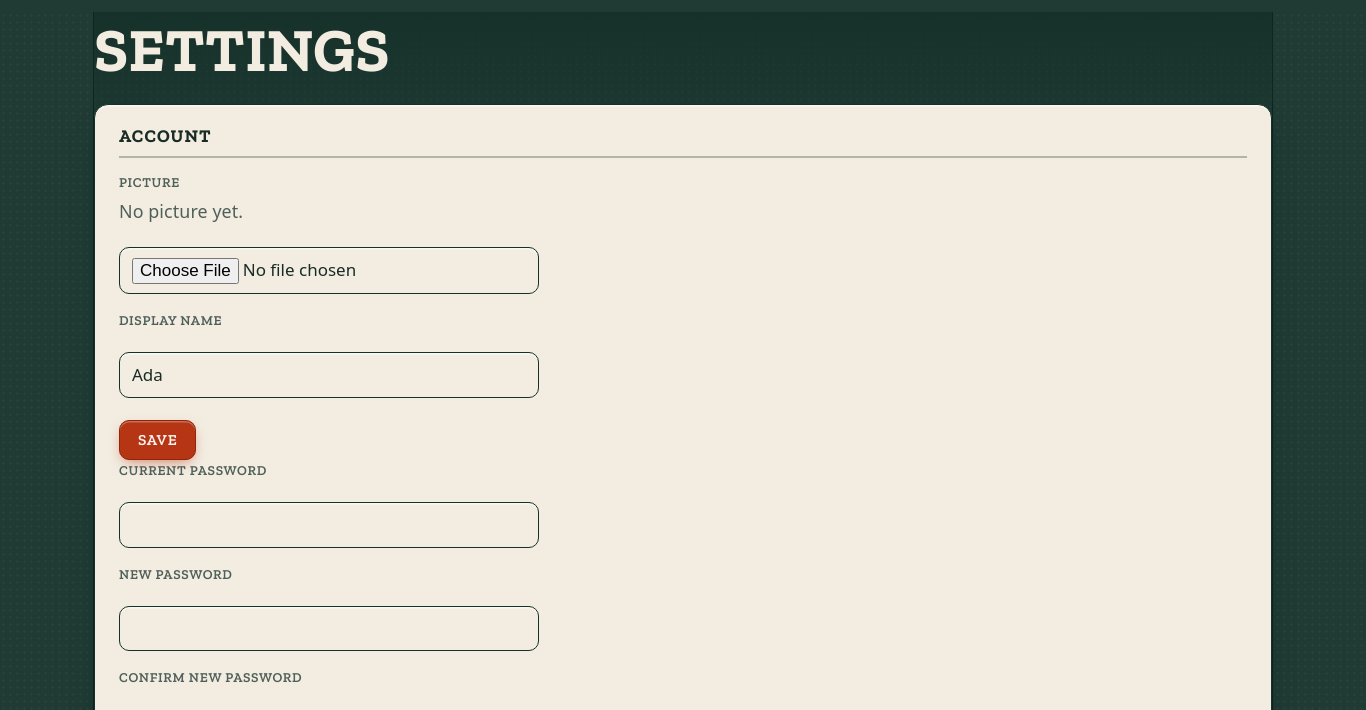
Test: saves the trimmed display name
Expected: the heading "Settings" is shown, top-left (94, 13), bottom-right (390, 87)
Replace the text in the field labelled "Display name" with "  Ada Lovelace  " at (329, 375), box top-left (119, 352), bottom-right (539, 398)
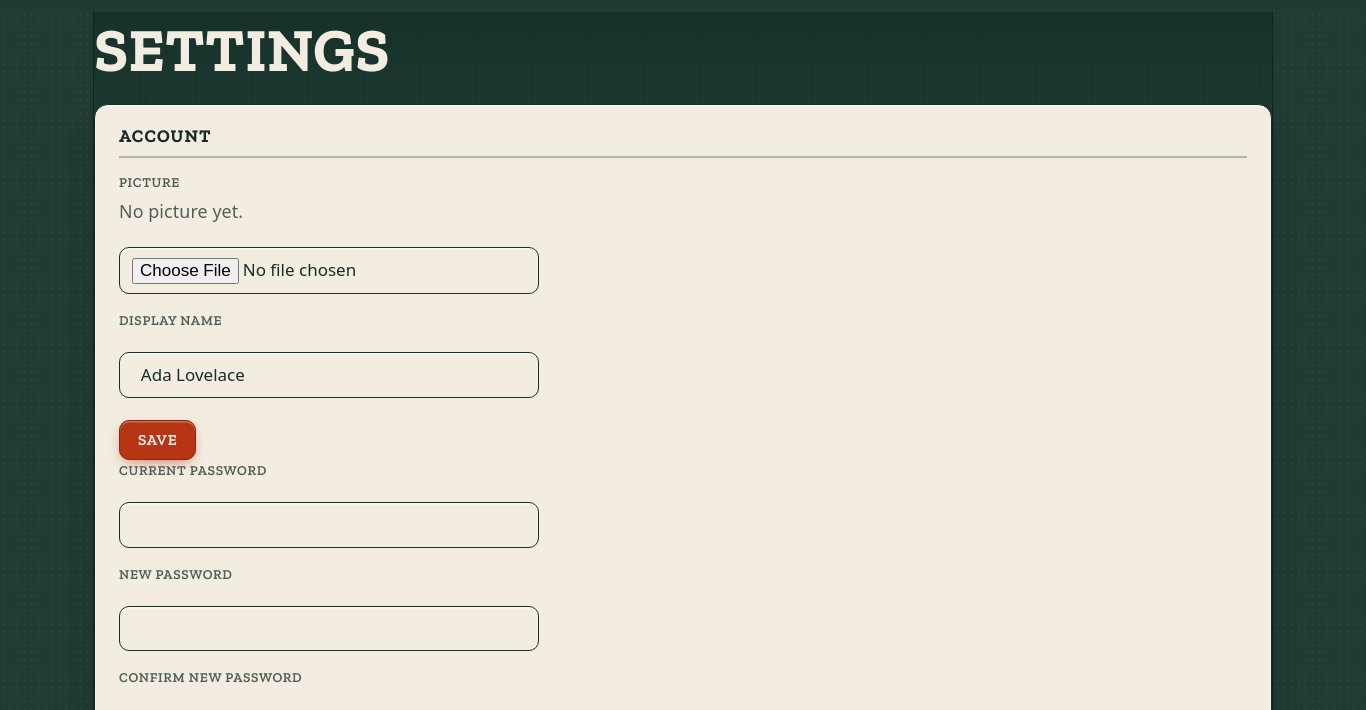
Click the button "Save" at (158, 440), box top-left (119, 420), bottom-right (196, 460)
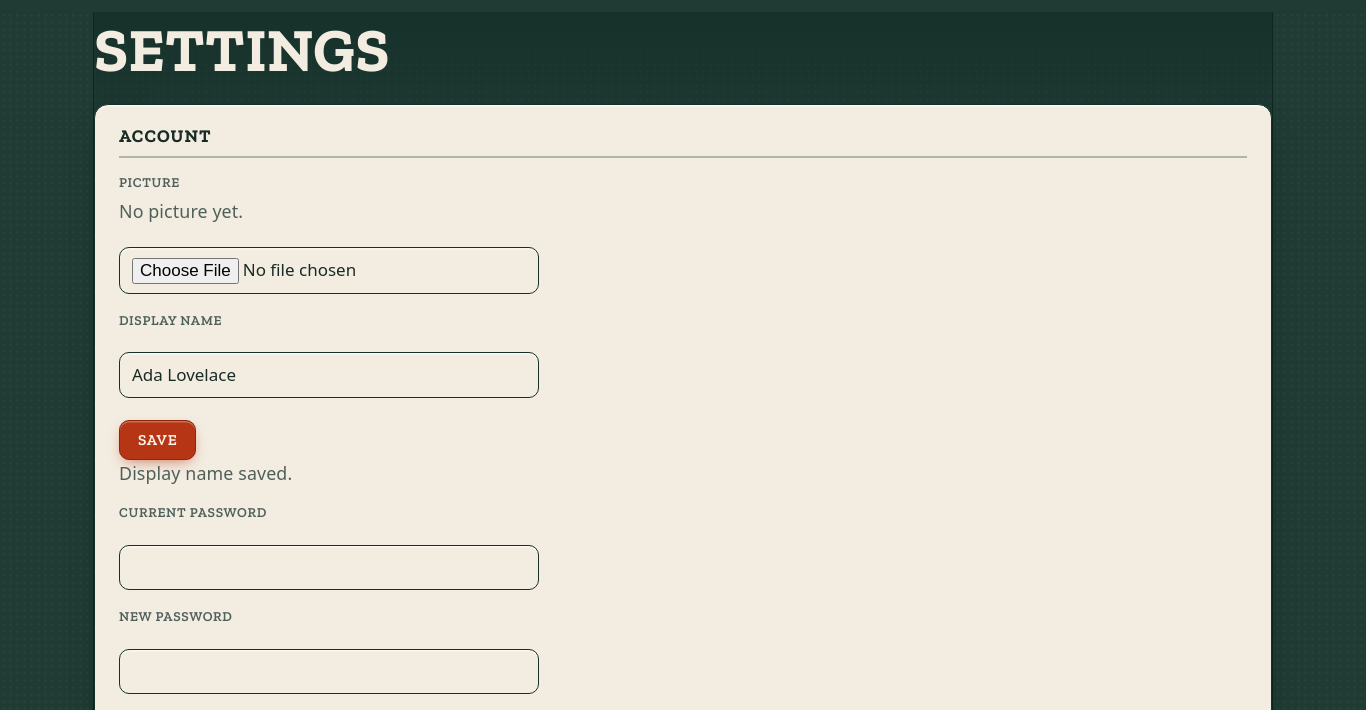
Expected: the message reads "Display name saved.", top-left (119, 461), bottom-right (292, 485)
